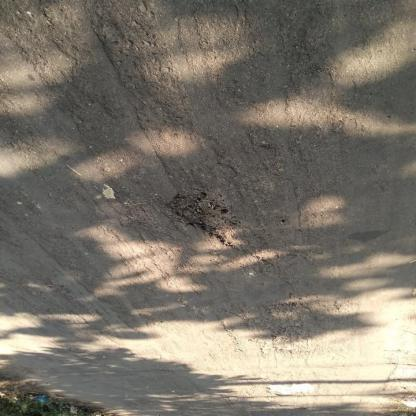pothole: (165, 188, 242, 250)
